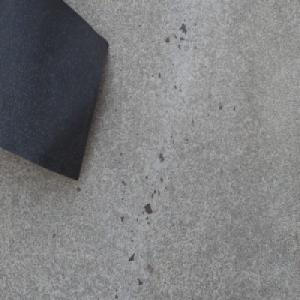PaintChip: (0, 0, 110, 182)
